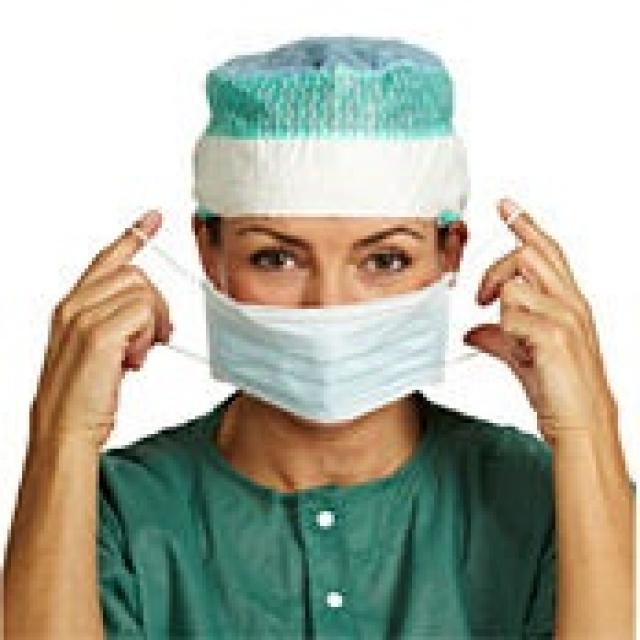mask: (210, 145, 438, 421)
